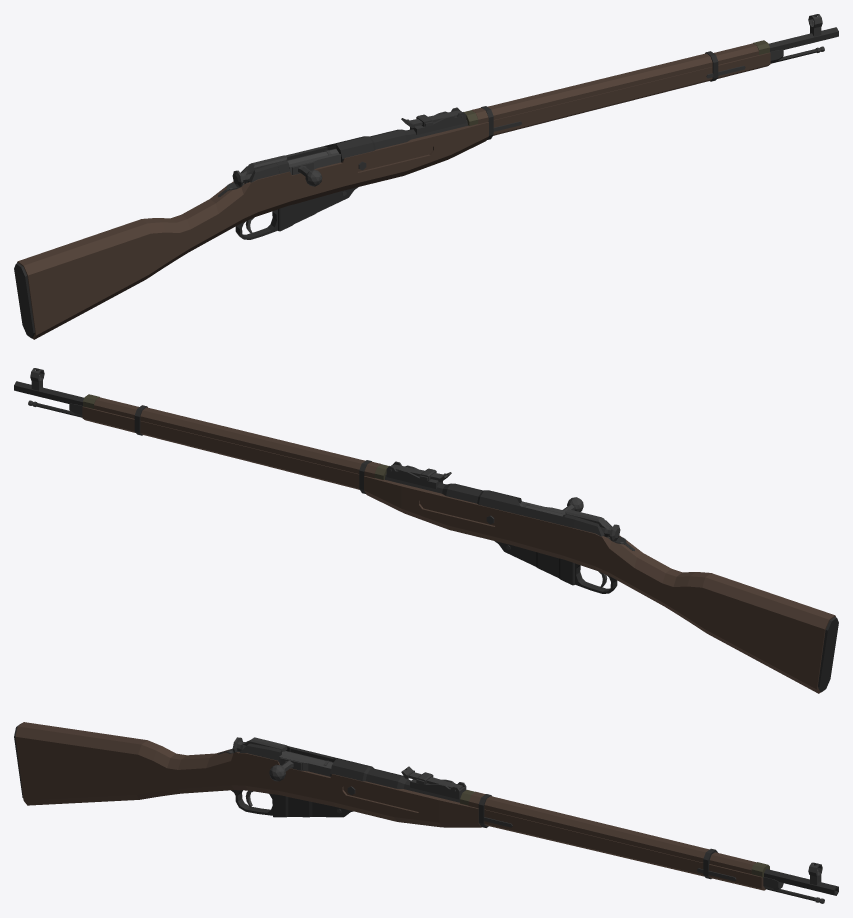
Rendered from low-poly_mosin_nagant.glb.
The picture shows the model from 3 angles, top to bottom: view 1: azimuth 30°, elevation 25°; view 2: azimuth 150°, elevation 25°; view 3: azimuth 330°, elevation 25°; orthographic projection.
Parts seen in each view (by area): view 1: Cube, Cube.006, Cube.001, Cylinder.006, Cube.003, Cube.014, Cylinder; view 2: Cube, Cube.001, Cube.006, Cylinder.006, Cube.003, Cube.014, Cylinder; view 3: Cube, Cube.006, Cube.001, Cylinder.006, Cube.003, Cylinder, Cube.017, Cube.026, Cube.004.
Part boxes in pixels (left/top/right/bottom): Cube: left=17, top=122, right=488, bottom=339; Cube.006: left=487, top=43, right=758, bottom=119; Cube.001: left=493, top=52, right=770, bottom=135; Cylinder.006: left=276, top=120, right=468, bottom=173; Cube.003: left=278, top=187, right=358, bottom=231; Cube.014: left=14, top=263, right=34, bottom=338; Cylinder: left=769, top=27, right=838, bottom=51; Cube: left=364, top=476, right=835, bottom=693; Cube.001: left=82, top=406, right=359, bottom=489; Cube.006: left=94, top=397, right=365, bottom=473; Cylinder.006: left=384, top=474, right=576, bottom=527; Cube.003: left=494, top=541, right=574, bottom=585; Cube.014: left=818, top=617, right=838, bottom=692; Cylinder: left=14, top=381, right=83, bottom=405; Cube: left=15, top=722, right=481, bottom=827; Cube.006: left=484, top=796, right=756, bottom=873; Cube.001: left=484, top=809, right=765, bottom=890; Cylinder.006: left=268, top=746, right=460, bottom=802; Cube.003: left=273, top=794, right=353, bottom=817; Cylinder: left=764, top=869, right=838, bottom=895; Cube.017: left=410, top=779, right=466, bottom=799; Cube.026: left=279, top=754, right=331, bottom=776; Cube.004: left=231, top=790, right=272, bottom=815.
Size of the model in its own units: 1.27 by 0.1945 by 0.0773.
